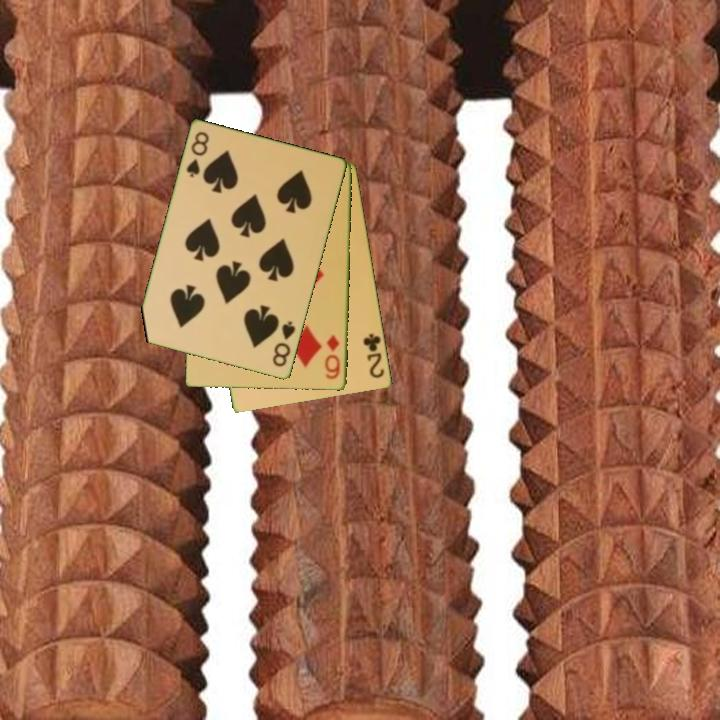2c: (360, 330, 388, 381)
6d: (322, 332, 343, 382)
8s: (269, 318, 299, 370), (183, 128, 212, 181)
